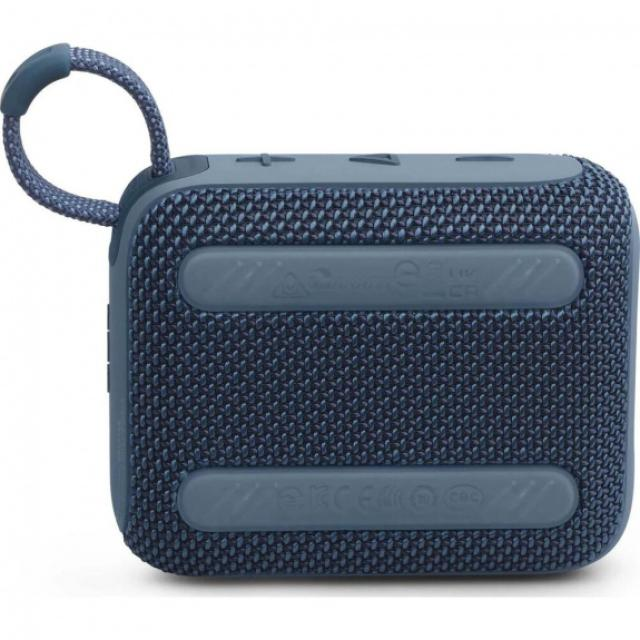column JBL: (2, 45, 637, 574)
